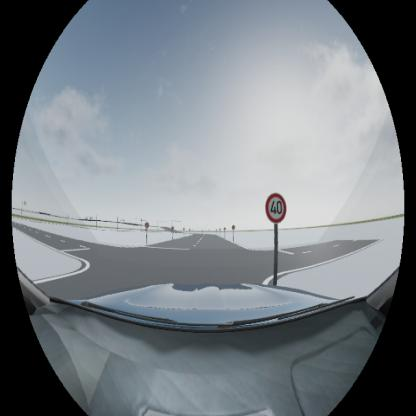Speed Limit 40: (265, 191, 287, 224)
